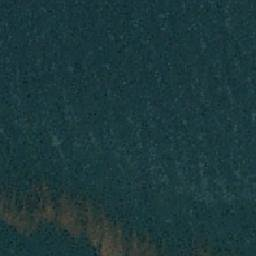debris: (1, 182, 52, 234), (53, 192, 85, 235), (86, 205, 116, 248), (116, 226, 143, 248), (143, 230, 155, 250)
